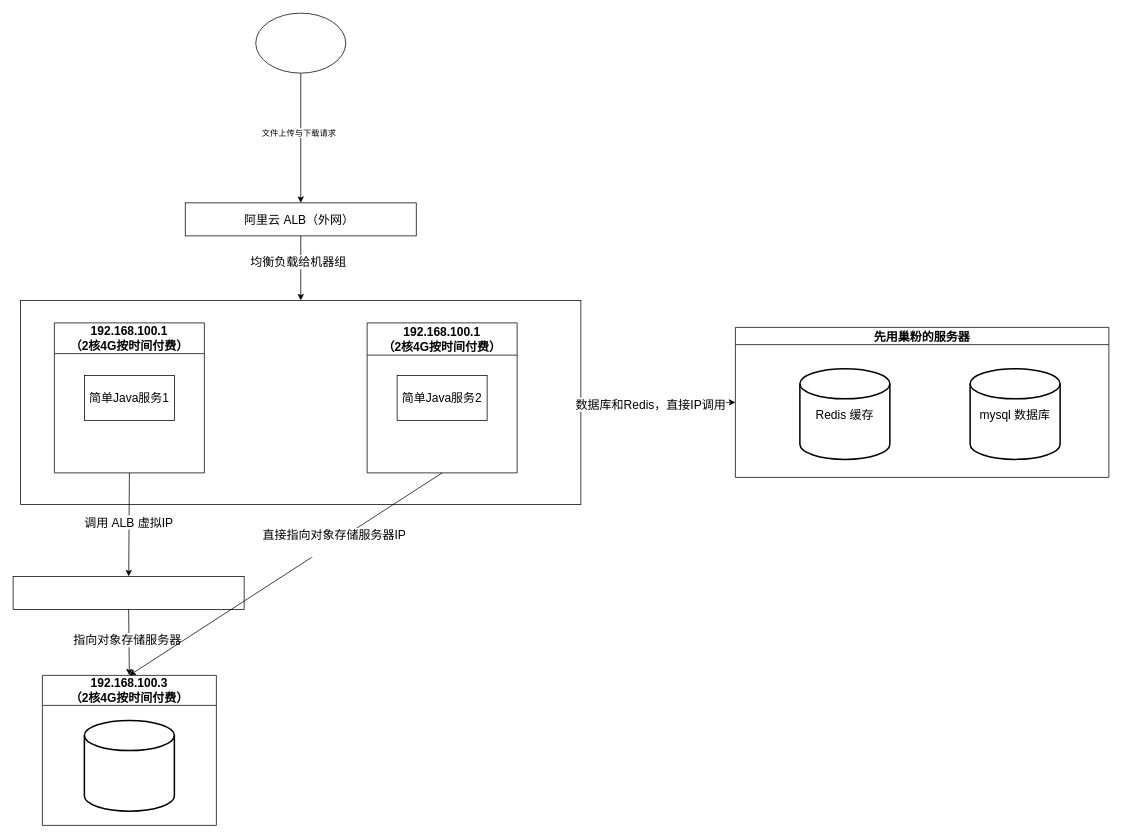
The diagram is 1122 pixels wide and 839 high, and some of its shapes have lost their labels. The centre of each missing label's shape, as x and y in pixels:
"Minio对象存储" goes at pixel 129 765.
"用户端" goes at pixel 300 42.
"阿里云 ALB" goes at pixel 128 592.
